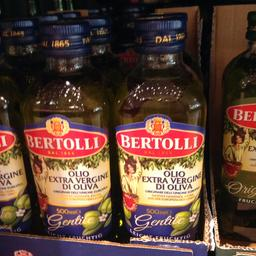oil: (112, 14, 207, 241), (17, 21, 114, 240)
